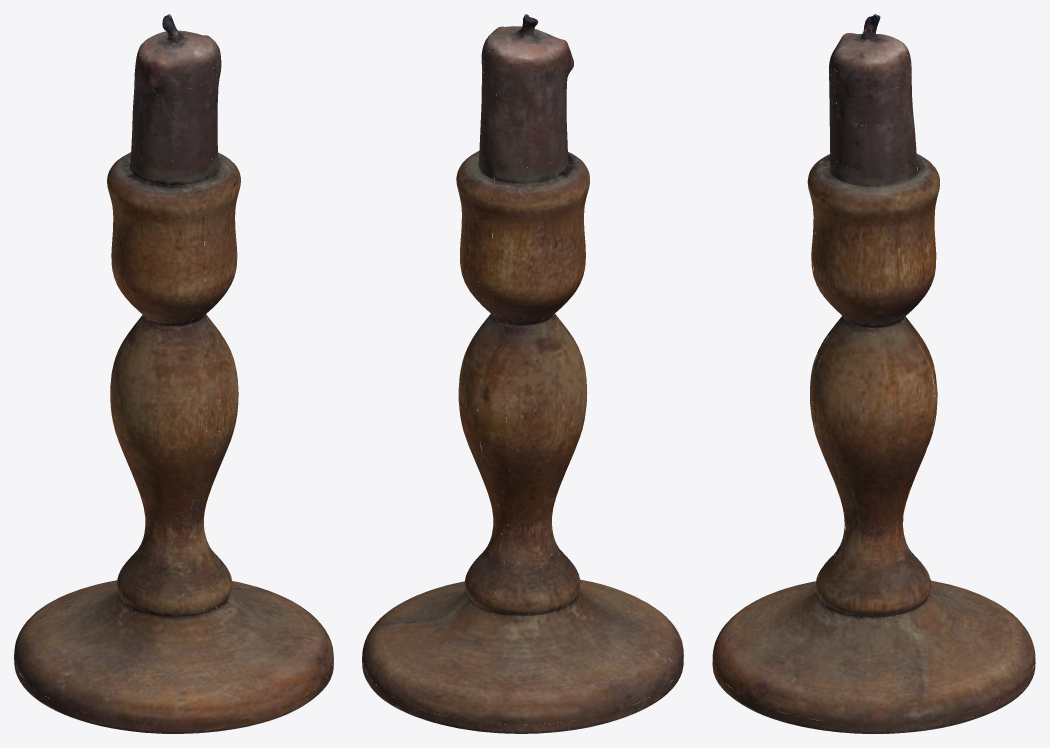
The model's file is candlestick.glb.
The picture shows the model from 3 angles, left to right: view 1: azimuth 30°, elevation 25°; view 2: azimuth 150°, elevation 25°; view 3: azimuth 270°, elevation 25°; orthographic projection.
Parts seen in each view (by area): view 1: wooden_candlestick; view 2: wooden_candlestick; view 3: wooden_candlestick.
Part boxes in pixels (left/top/right/bottom): wooden_candlestick: left=14, top=14, right=333, bottom=733; wooden_candlestick: left=362, top=14, right=683, bottom=733; wooden_candlestick: left=712, top=14, right=1035, bottom=733.
Bounding box in the file's own units: 0.0972 × 0.2197 × 0.0987.
Materials: 1 (1 with a texture image).
